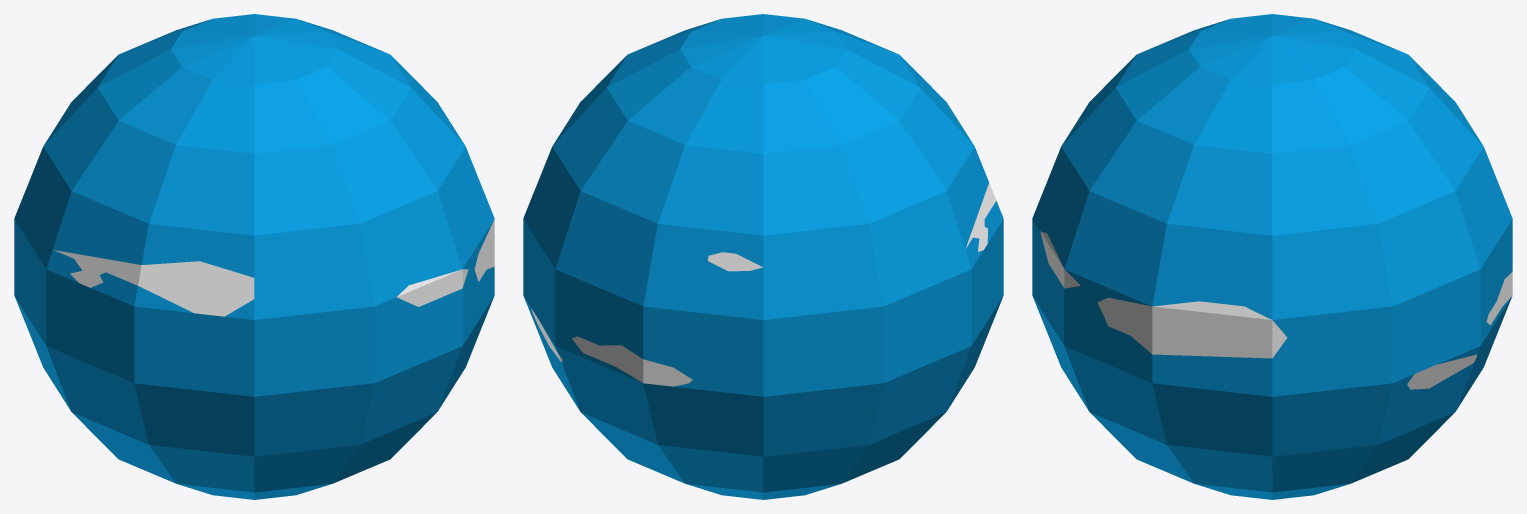
Rendered from Neptune.glb.
The picture shows the model from 3 angles, left to right: view 1: azimuth 30°, elevation 25°; view 2: azimuth 150°, elevation 25°; view 3: azimuth 270°, elevation 25°; orthographic projection.
Visible parts, largest first — view 1: group646701568; view 2: group646701568; view 3: group646701568.
Boxes of the visible parts, <box> form: group646701568: <box>14,14,494,499</box>; group646701568: <box>523,14,1003,499</box>; group646701568: <box>1032,14,1512,499</box>.
Bounding box in the file's own units: 1.37 × 1.39 × 1.37.
